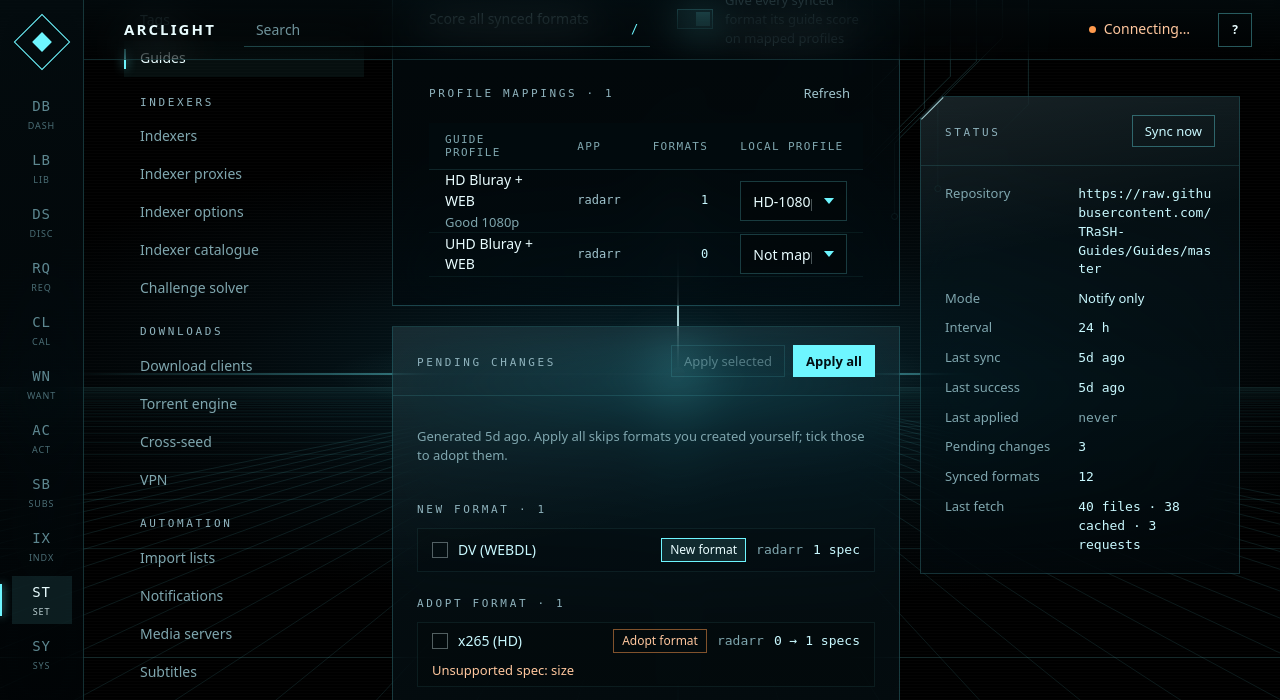
Test: Settings → Guides › applies everything with Apply all and syncs on demand
(page scrolled)
Click the button "Apply all". click: (834, 361)
box: [793,345,875,377]
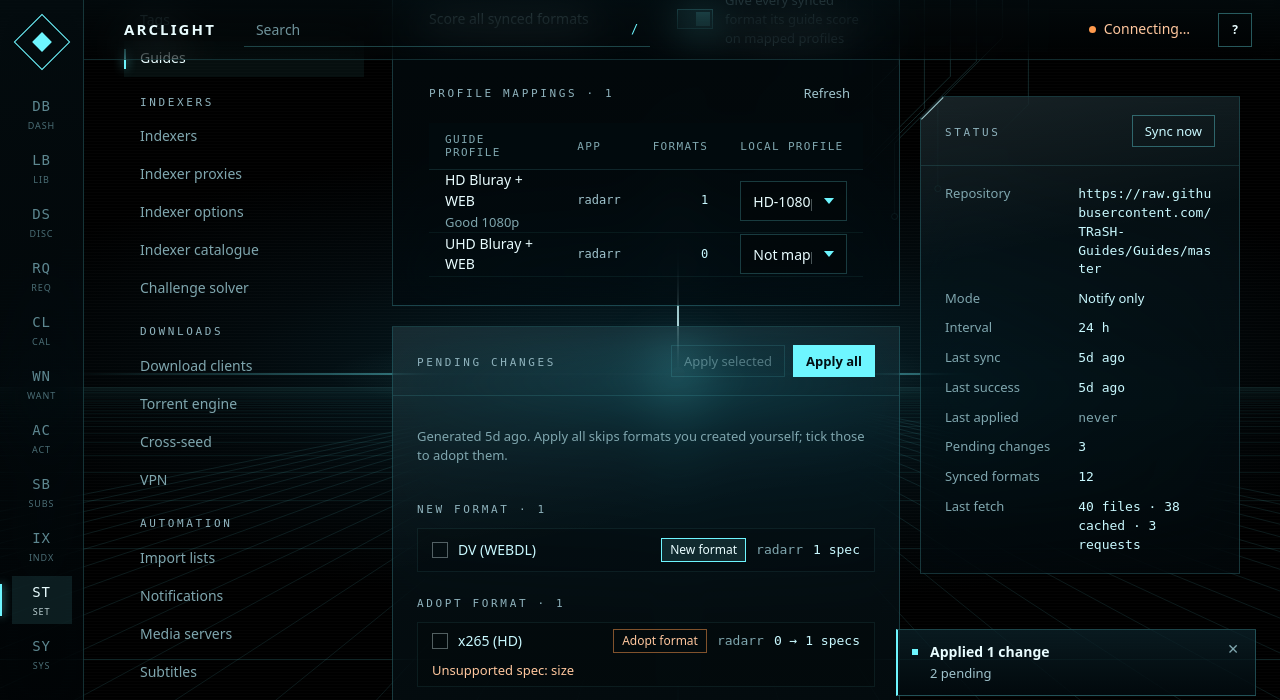
Click the button "Sync now". click: (1173, 131)
box: [1132,115,1215,147]
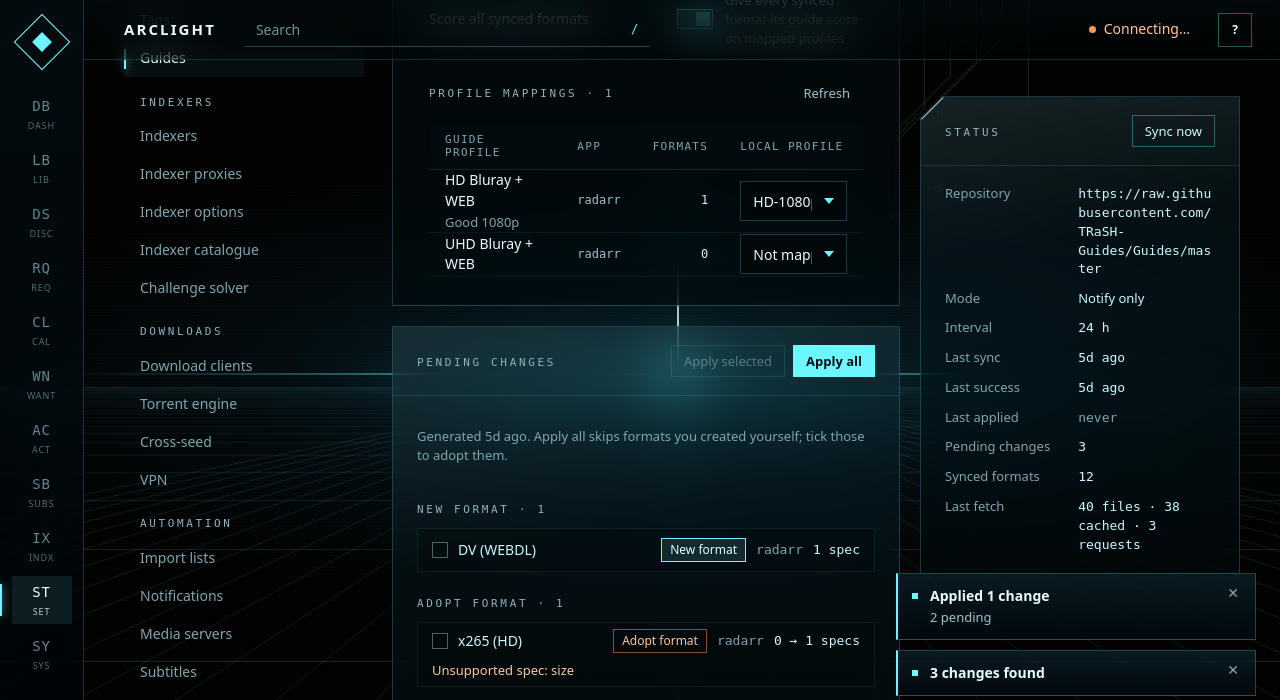
Check: the text "3 changes found" is shown, box [930,663,1045,682]
